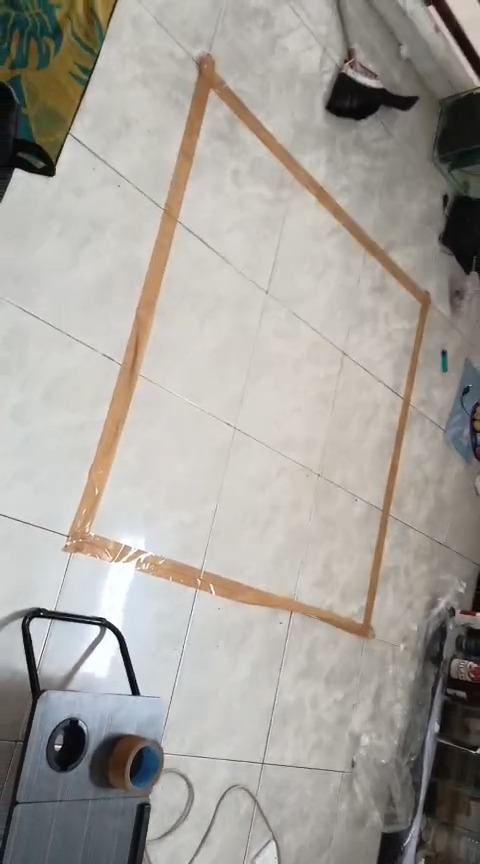floor marking: (64, 54, 430, 637)
